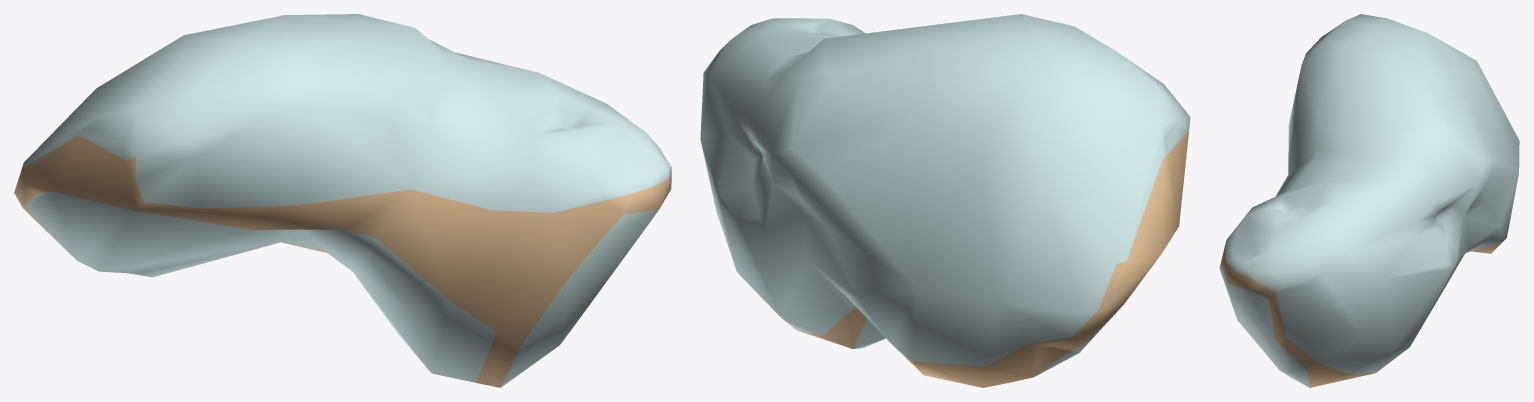
File: Scaphoid_bone.l_Generated_Mesh_From_X3D.704.glb
3 views of the same model, side by side, from view 1: azimuth 30°, elevation 25°; view 2: azimuth 150°, elevation 25°; view 3: azimuth 270°, elevation 25° (orthographic). The views are drawn at different scales.
Parts seen in each view (by area): view 1: Scaphoid_bone.l_Generated_Mesh_From_X3D.704; view 2: Scaphoid_bone.l_Generated_Mesh_From_X3D.704; view 3: Scaphoid_bone.l_Generated_Mesh_From_X3D.704.
Part boxes in pixels (x1,y1,x2,y2): Scaphoid_bone.l_Generated_Mesh_From_X3D.704: (14, 14, 671, 387); Scaphoid_bone.l_Generated_Mesh_From_X3D.704: (700, 14, 1190, 387); Scaphoid_bone.l_Generated_Mesh_From_X3D.704: (1219, 14, 1519, 387).
Bounding box in the file's own units: 0.0246 × 0.0162 × 0.0159.
